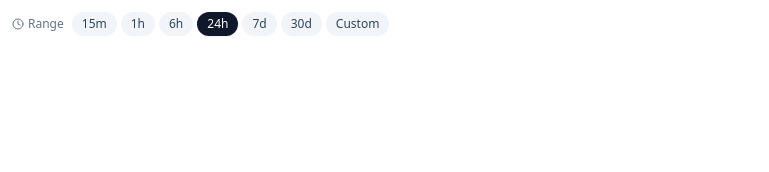
Test: <TimeRangePicker /> › shows an error when From is not earlier than To
Click the button "Custom": (358, 24) [326, 12, 389, 36]
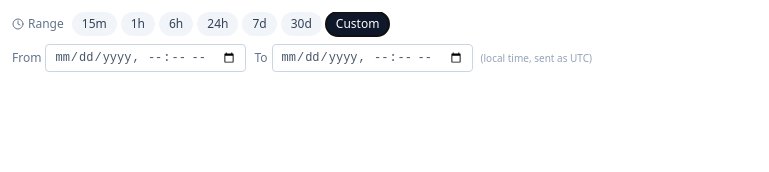
In the field named "from (local time)": (146, 58) [45, 44, 246, 72], type "2026-06-18T10:00"
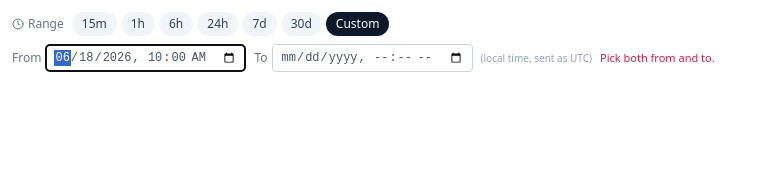
In the field named "to (local time)": (372, 58) [272, 44, 472, 72], type "2026-06-18T08:00"
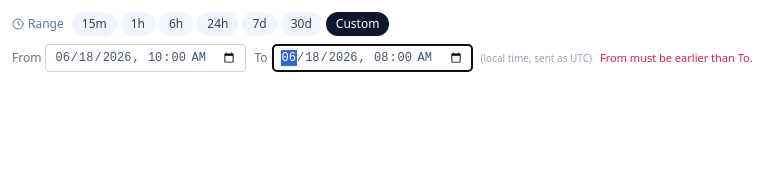
Now the message shows "earlier than To", box [600, 50, 753, 65]
